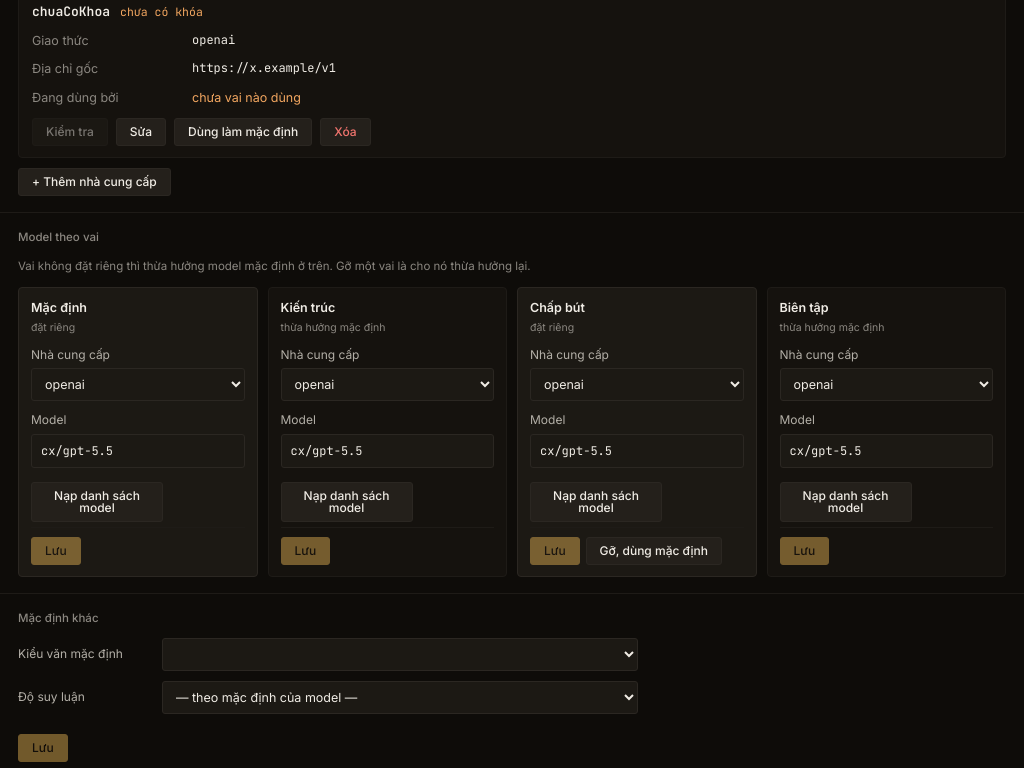
Test: đổi ô Nhà cung cấp của một kênh thì ô Model ĐỔI THEO
(page scrolled)
Check: the 3rd field labelled "Model" holds "cx/gpt-5.5", box left=530, top=434, right=744, bottom=468
Select "kiraai" in the 3rd dropdown labelled "Nhà cung cấp" at {"x": 637, "y": 385}, box left=530, top=368, right=744, bottom=401
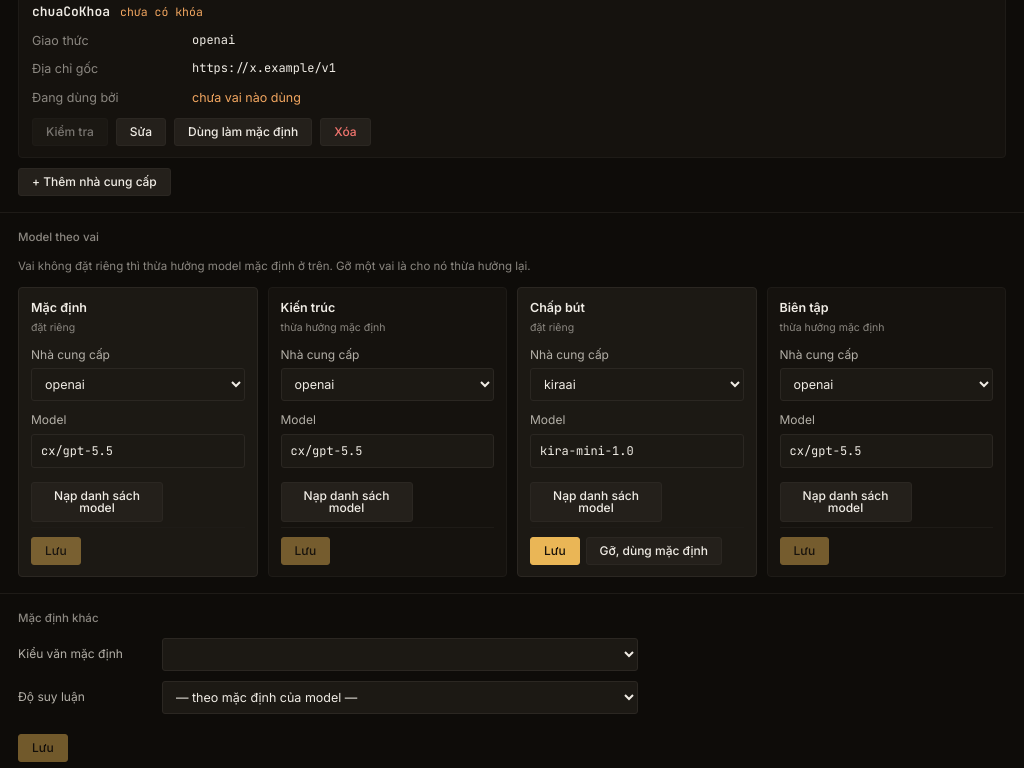
Check: the 3rd field labelled "Model" does not hold "cx/gpt-5.5", box left=530, top=434, right=744, bottom=468
Check: the 3rd field labelled "Model" holds "kira-mini-1.0", box left=530, top=434, right=744, bottom=468
